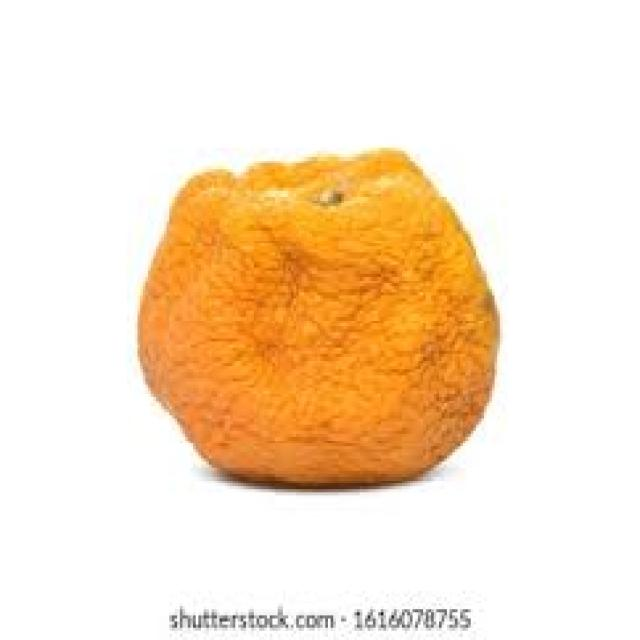overripe: (129, 134, 506, 492)
